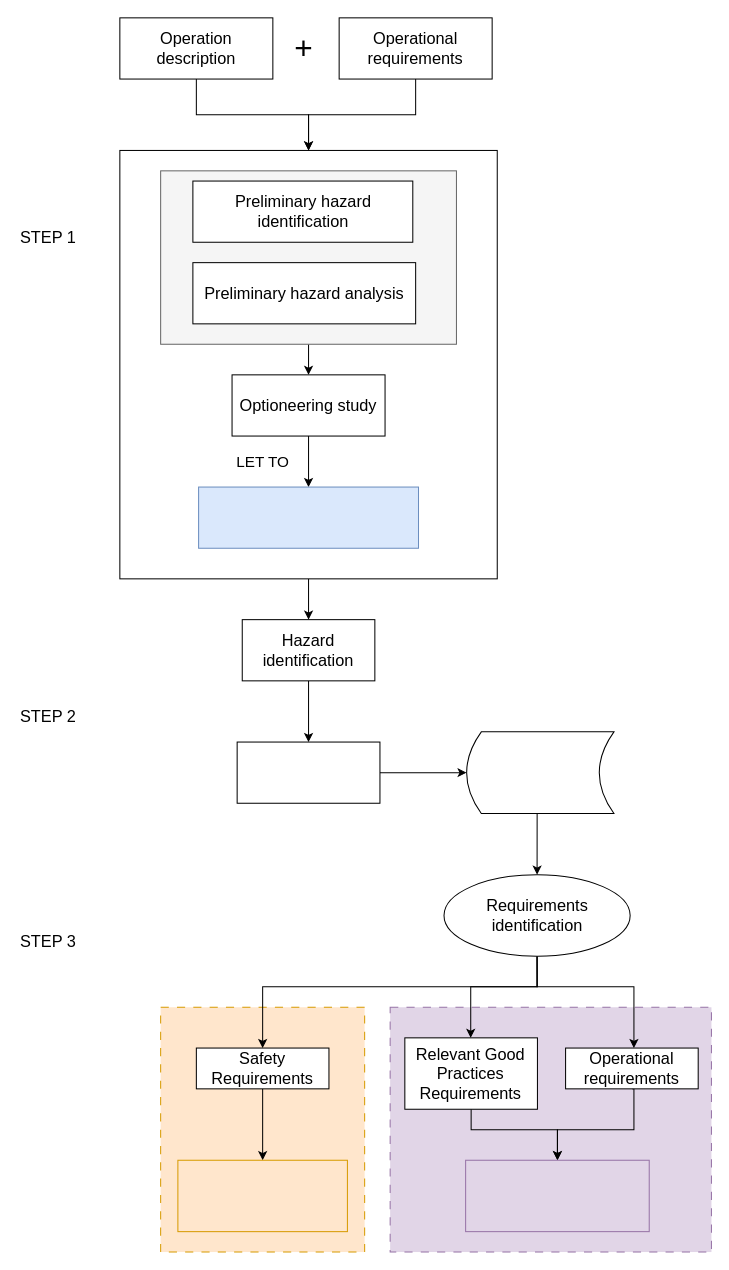
Image size: 729x1270. Some labels were removed from this diagram. The shapes that lost their labels are listed below. From the top down, each one's centre as x and y in pixels, then its label:
At point 308,517: "AUTONOMOUS ROBOT".
At point 308,772: "Hazard analysis".
At point 540,772: "Safety Functions".
At point 262,1195: "SAFETY SYSTEM".
At point 557,1195: "SAFETY-RELATED AUTONOMOUS SYSTEM".
